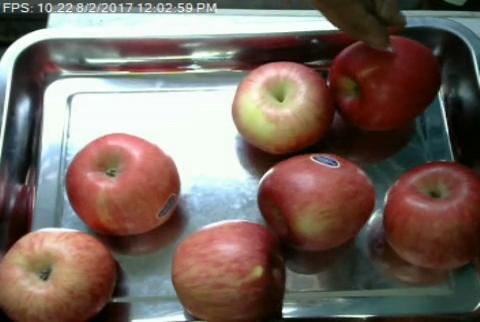apple: (65, 132, 181, 236), (257, 152, 376, 252), (172, 220, 285, 320), (0, 227, 116, 322), (383, 161, 480, 269), (331, 38, 441, 131), (231, 61, 334, 153)
